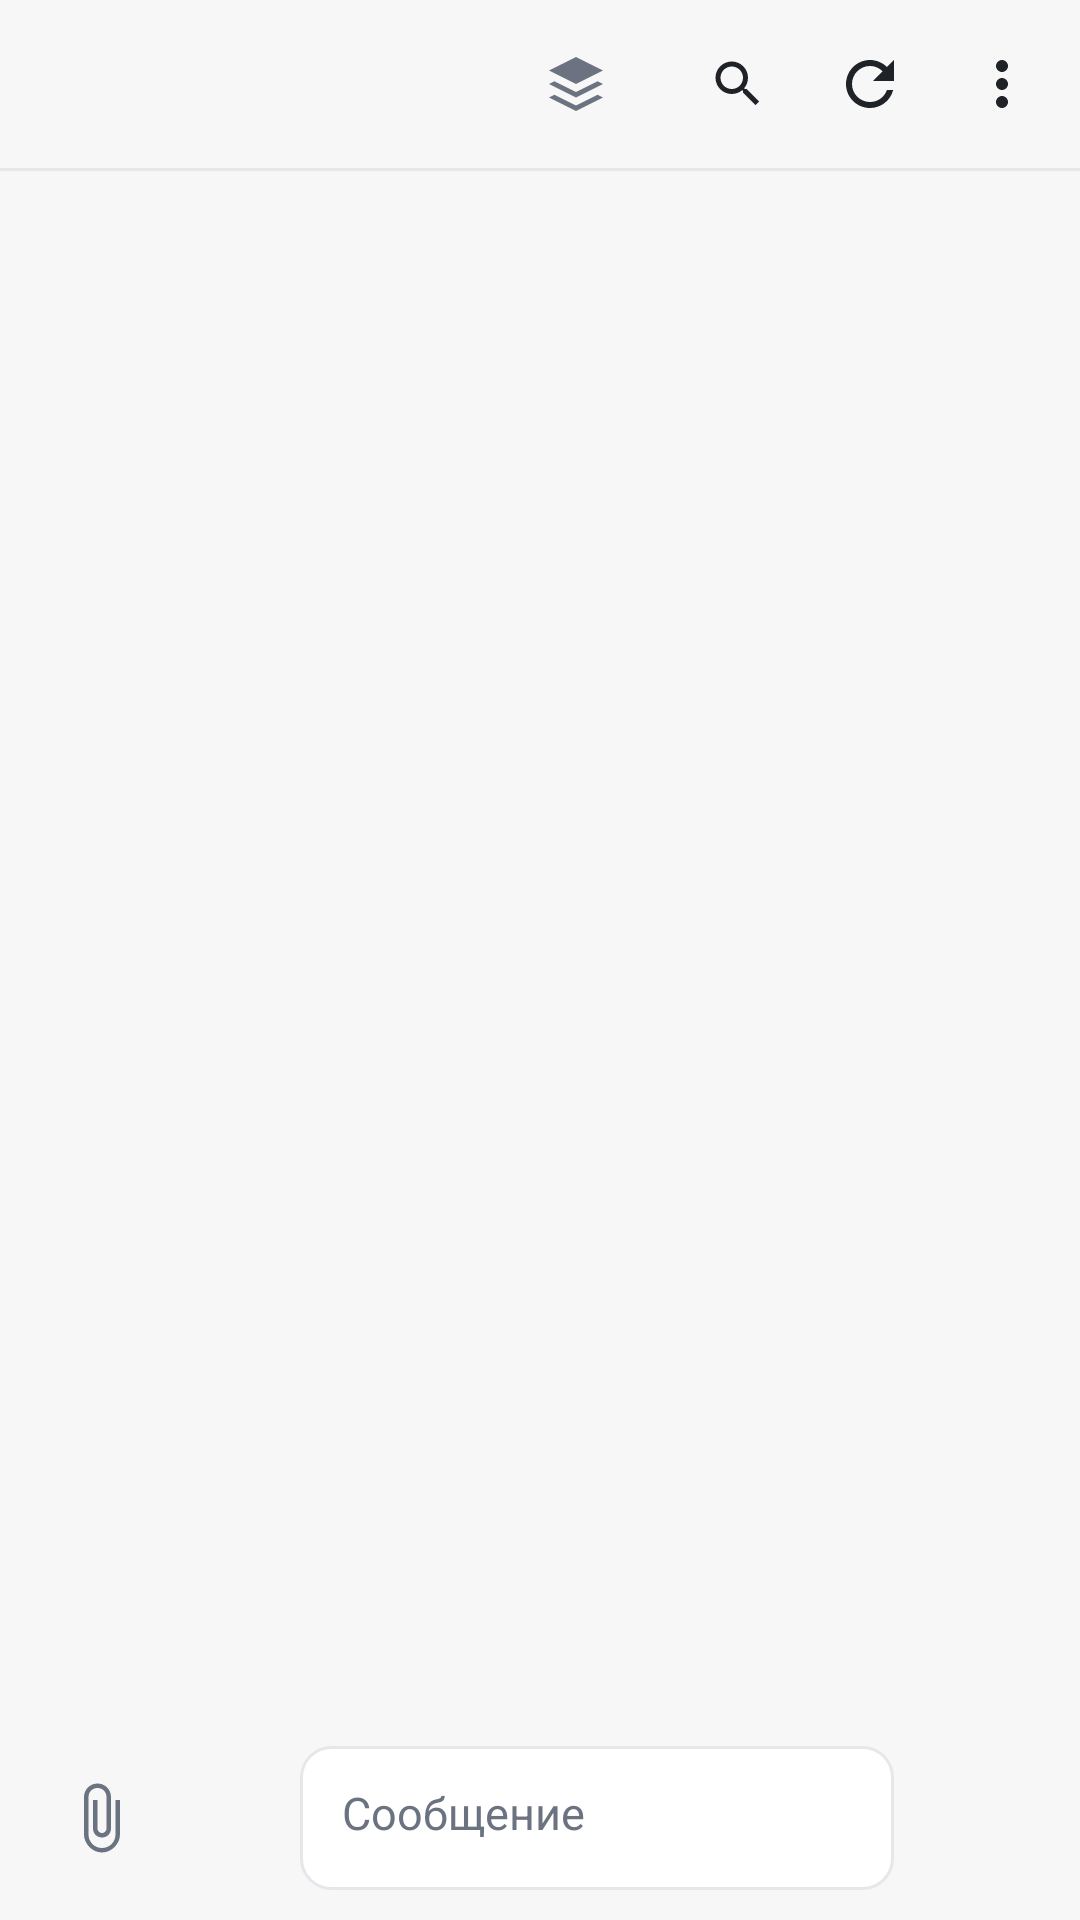

Icon click points for this 1080px x 1920px phone screenshot, format (x=x, y=y):
Обновить: (x=870, y=84)
Поиск в чате: (x=737, y=83)
Прикрепить картинку: (x=102, y=1818)
